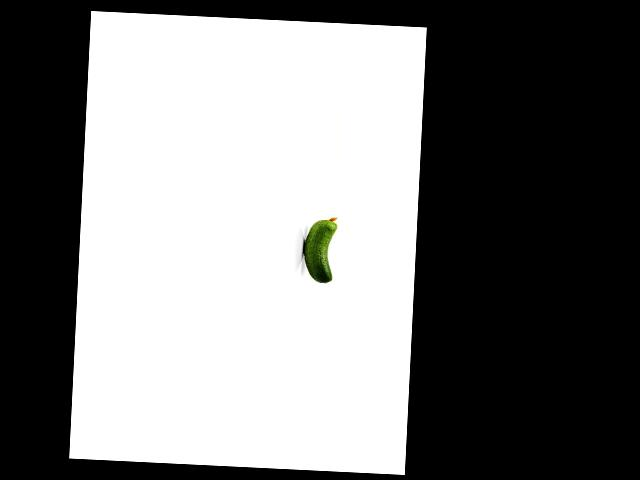cucumber: (301, 215, 337, 284)
